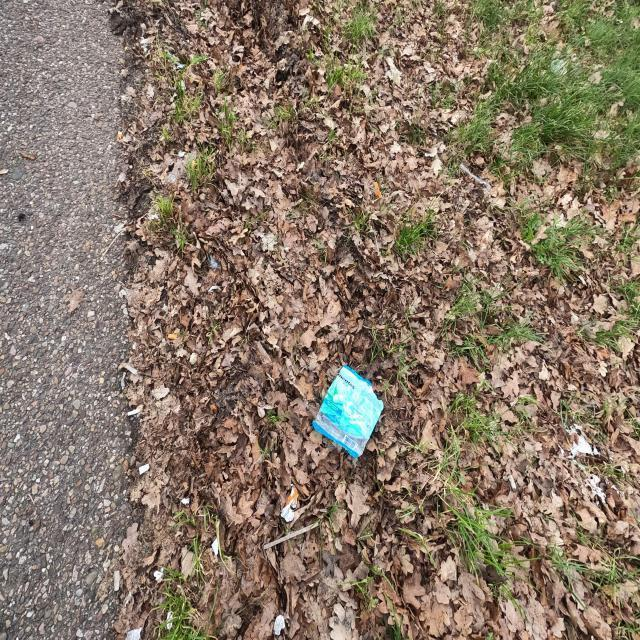Plastic: (314, 356, 390, 469)
